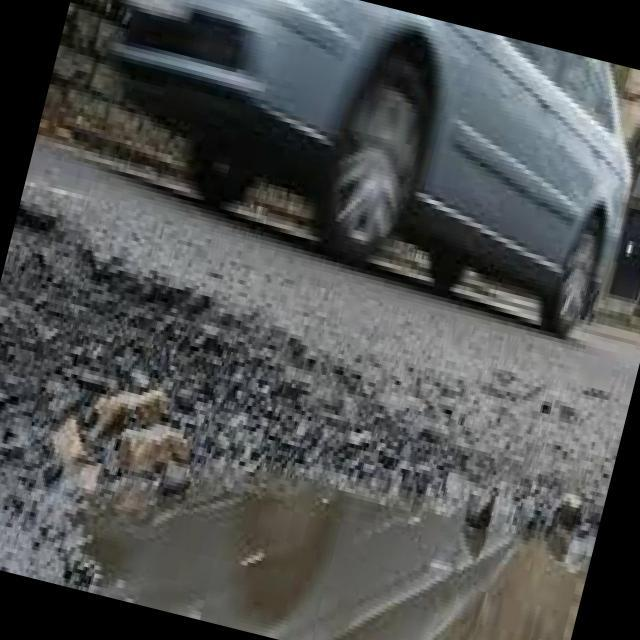Pothole: (0, 204, 590, 640)
